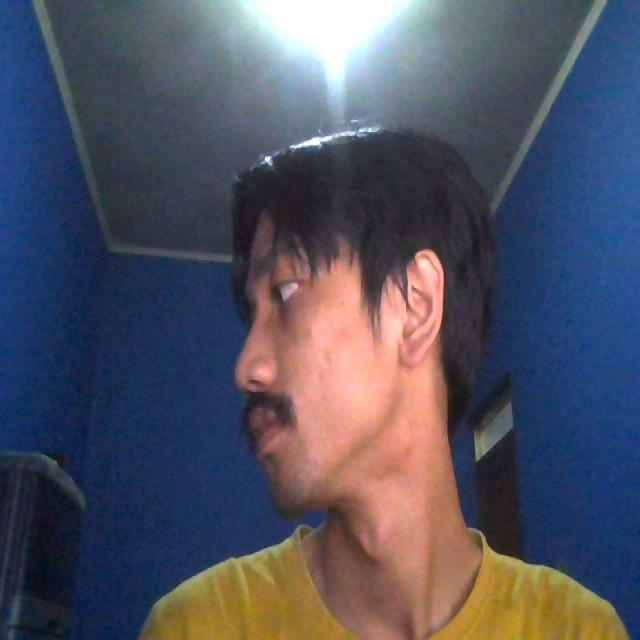Melihat kekanan: (175, 83, 510, 502)
